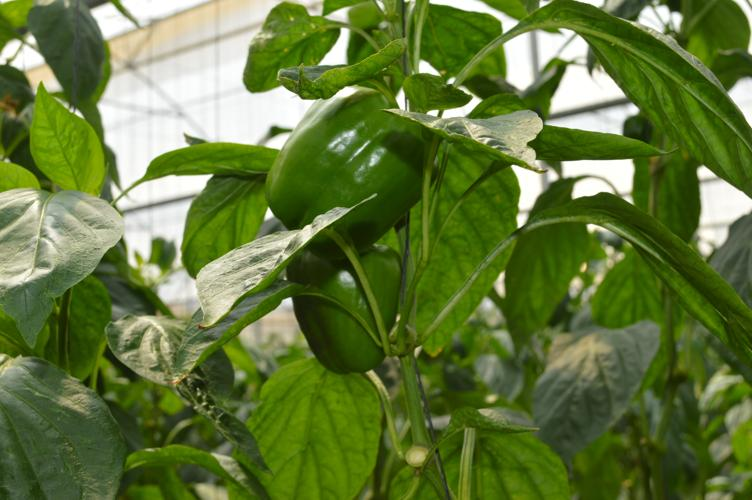BellPepper: (260, 82, 429, 235), (283, 244, 404, 379)
